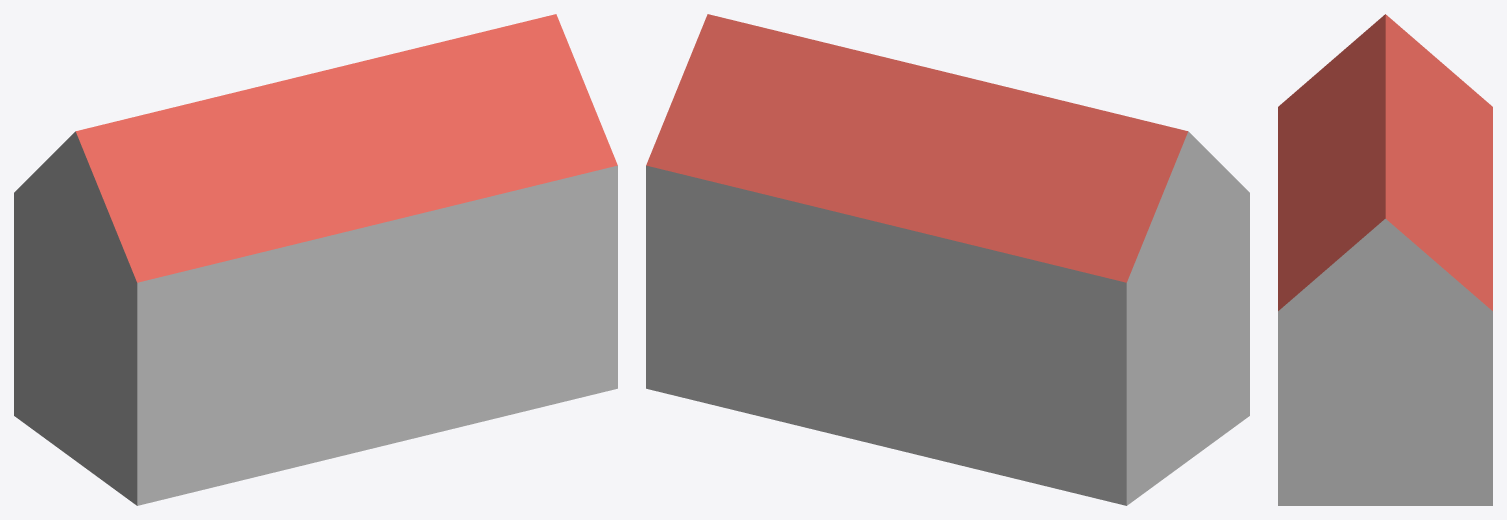
The model's file is Farmhouse.fbx.
The picture shows the model from 3 angles, left to right: view 1: azimuth 30°, elevation 25°; view 2: azimuth 150°, elevation 25°; view 3: azimuth 270°, elevation 25°; orthographic projection. The views are drawn at different scales.
Visible parts, largest first — view 1: House; view 2: House; view 3: House.
Part boxes in pixels (x1,y1,x2,y2): House: (14, 14, 617, 505); House: (646, 14, 1249, 505); House: (1278, 14, 1492, 505).
Size of the model in its own units: 962 by 630 by 427.
